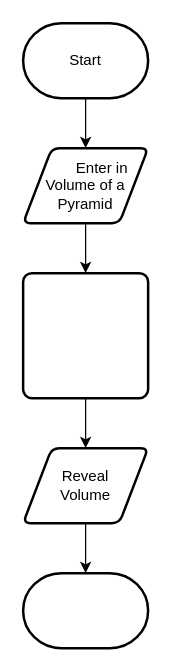
The diagram is 170 pixels wide and 670 high, and some of its shapes have lost their labels. Each missing label, with the box of its shape:
Stop: (21, 571, 149, 649)
V = (length * width * height) / 3: (21, 271, 149, 399)
